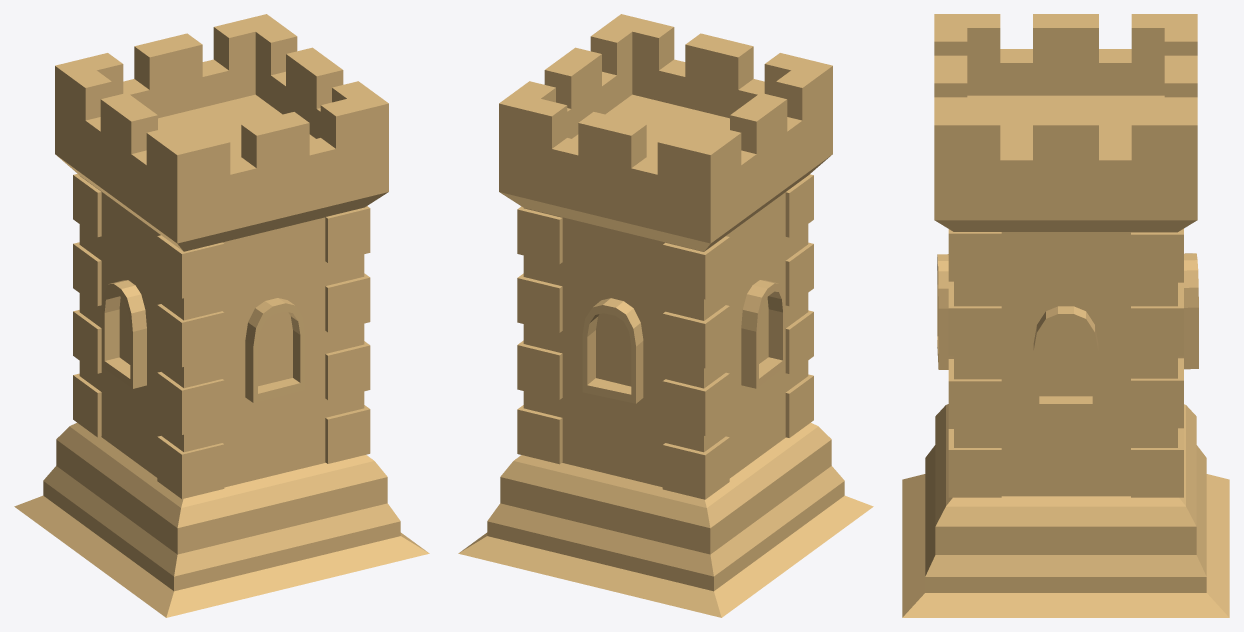
File: TTTower1.fbx
The picture shows the model from 3 angles, left to right: view 1: azimuth 30°, elevation 25°; view 2: azimuth 150°, elevation 25°; view 3: azimuth 270°, elevation 25°; orthographic projection. The views are drawn at different scales.
Visible parts, largest first — view 1: tower; view 2: tower; view 3: tower.
Part boxes in pixels (x1,y1,x2,y2): tower: [14, 14, 429, 617]; tower: [458, 14, 873, 617]; tower: [902, 14, 1229, 617].
Bounding box in the file's own units: 452 × 729 × 452.
